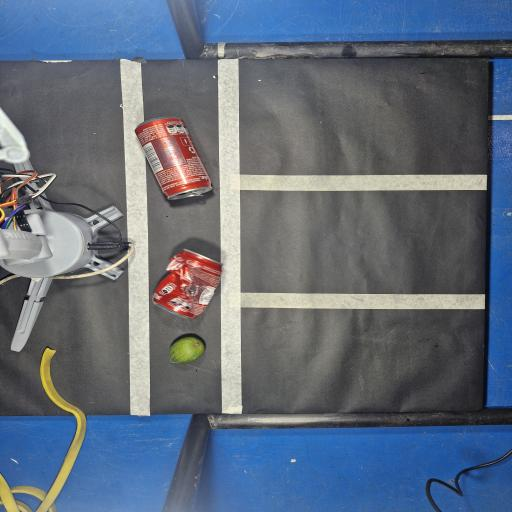higo: (170, 337, 204, 363)
lata: (135, 118, 211, 199)
lata_defectuoso: (152, 250, 222, 319)
